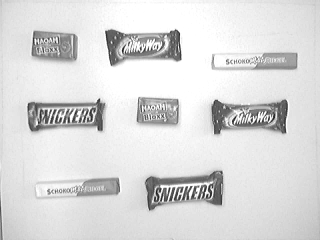Maoam: (29, 27, 82, 64), (135, 94, 182, 128)
Milkyway: (103, 27, 186, 68), (209, 97, 290, 138)
Riegel: (33, 175, 122, 203), (209, 50, 299, 72)
Snickers: (144, 168, 227, 212), (25, 96, 107, 136)
